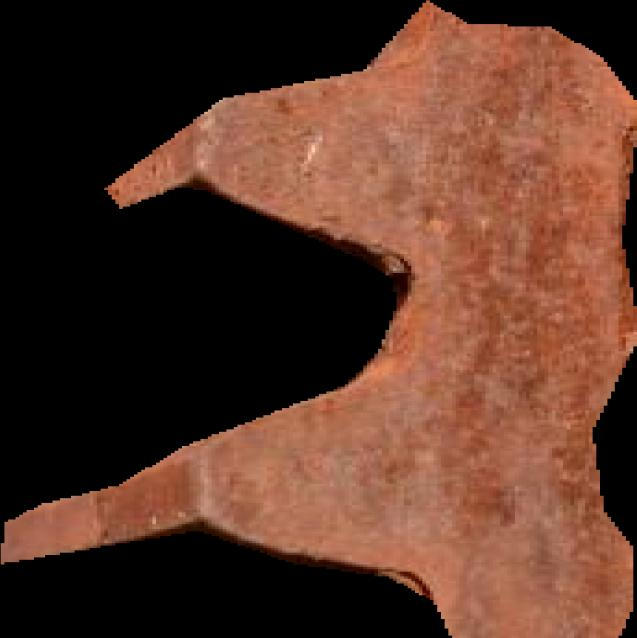Uniform Corrosion: (1, 0, 637, 638)
